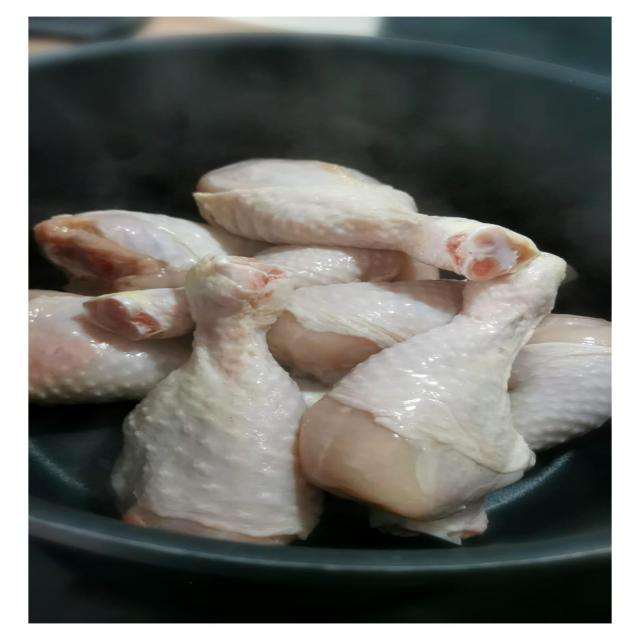chicken: (40, 158, 640, 548), (294, 244, 598, 510), (87, 247, 340, 553), (113, 255, 321, 544), (195, 151, 567, 283)
